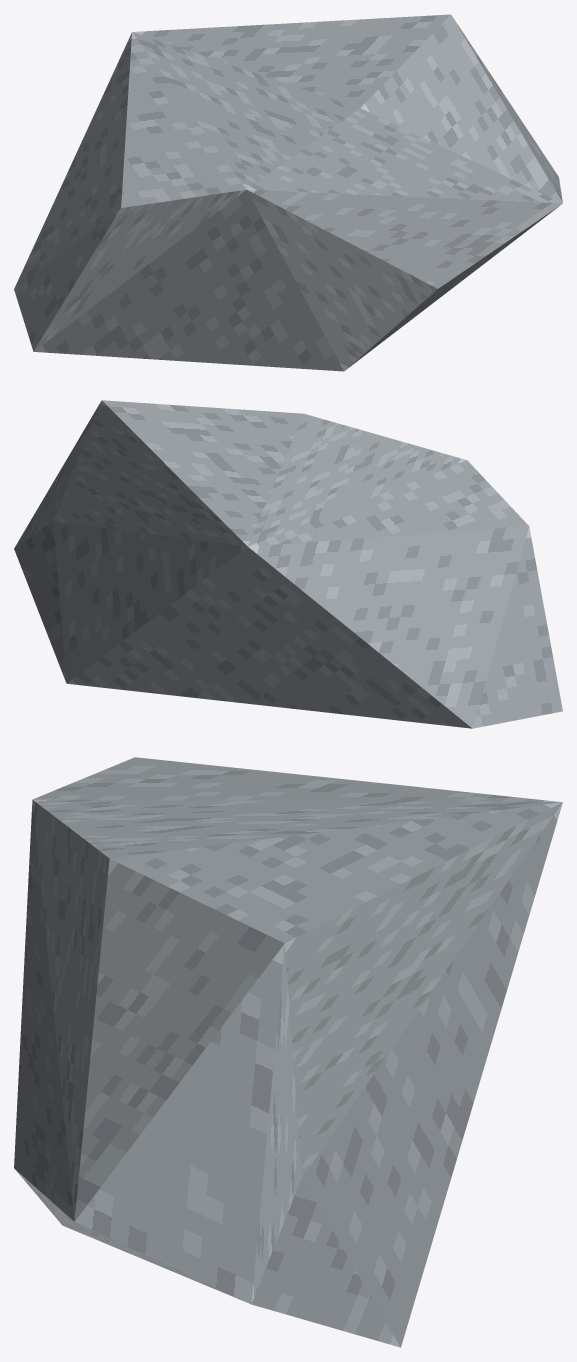
Rendered from mc_steel_lump.glb.
3 renders of one model, top to bottom at view 1: azimuth 30°, elevation 25°; view 2: azimuth 150°, elevation 25°; view 3: azimuth 270°, elevation 25°, orthographic. The views are drawn at different scales.
Parts seen in each view (by area): view 1: block_irregular metal; view 2: block_irregular metal; view 3: block_irregular metal.
Part boxes in pixels (x1=…): block_irregular metal: x1=14, y1=14, x2=562, y2=371; block_irregular metal: x1=14, y1=400, x2=562, y2=728; block_irregular metal: x1=14, y1=757, x2=562, y2=1347.
Bounding box in the file's own units: 0.0905 × 0.0428 × 0.0504.
1 material, 1 textured.
